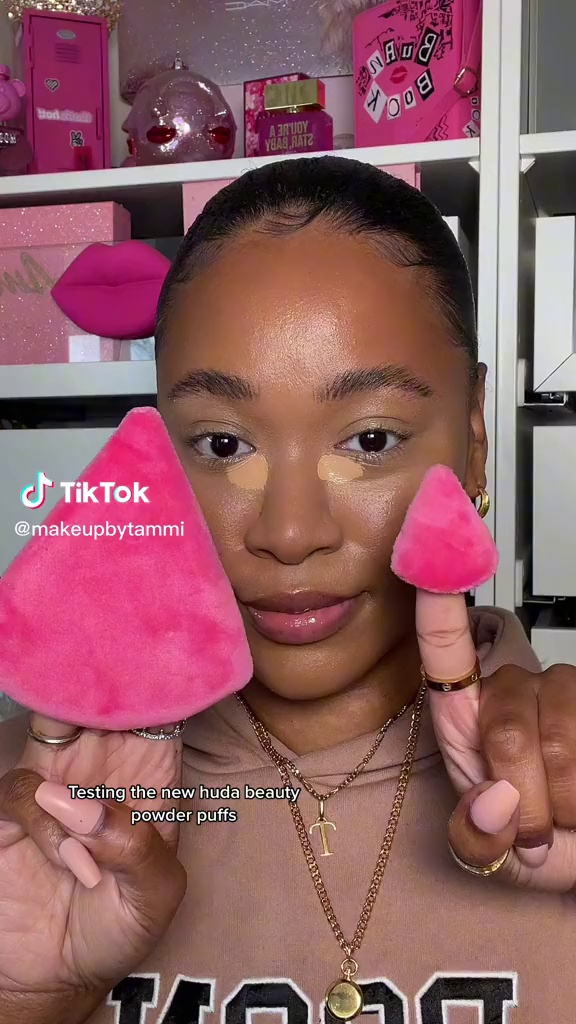train' :'yolo_data/train/images',: (4, 396, 258, 737), (372, 457, 507, 596)
